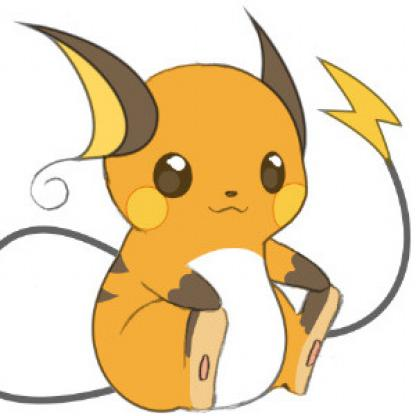Raichu: (1, 4, 416, 416)
